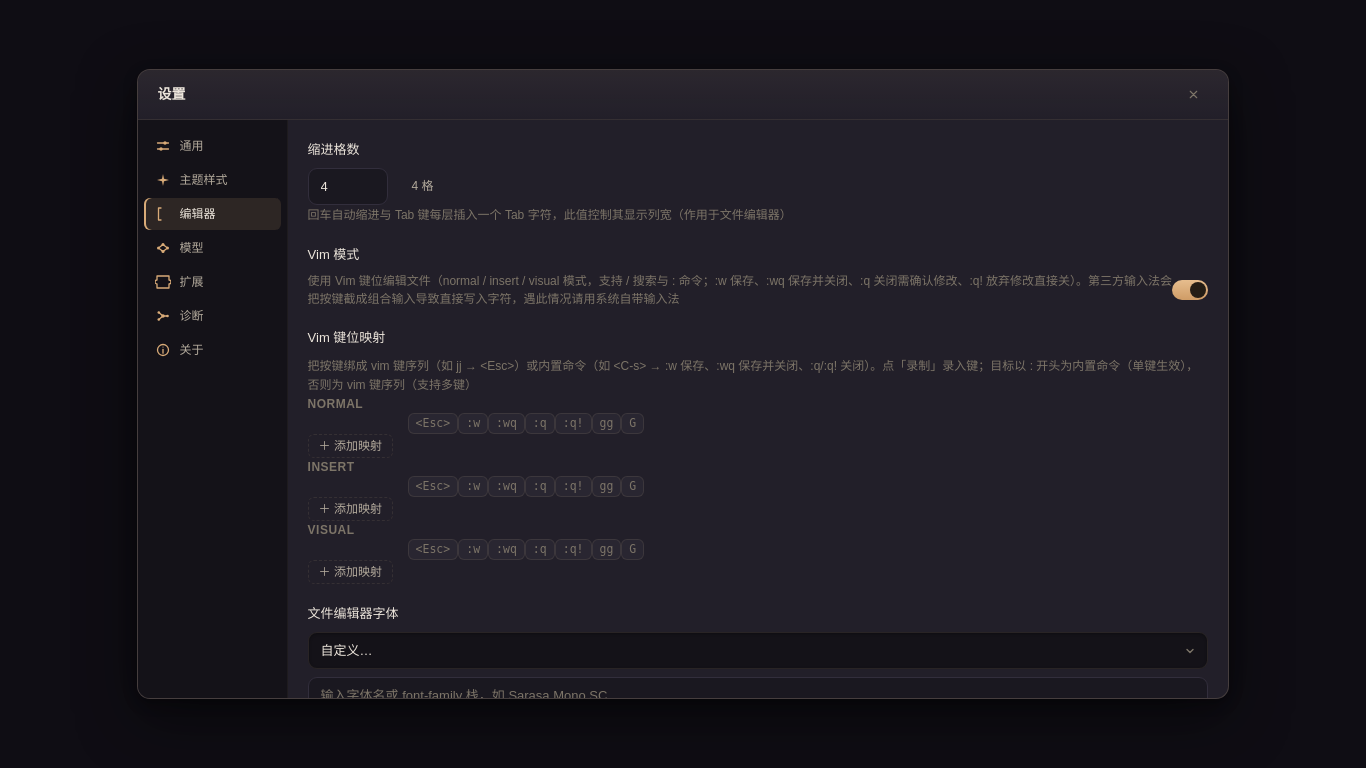
it: SettingsPanel vim keymap suggestion chips › chip_with_no_rows_adds_row_and_fills
Click the 1st button "<Esc>": (433, 423) [408,413,458,434]
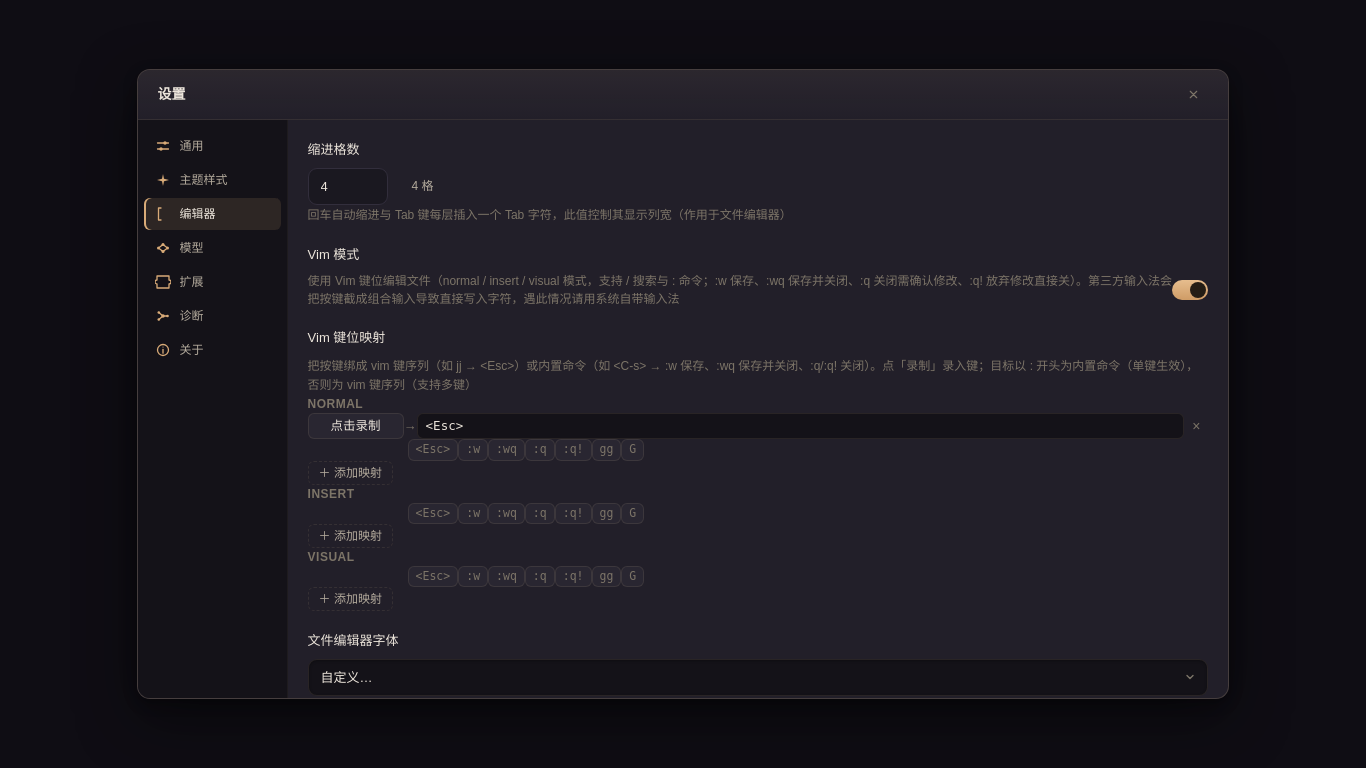
Now the field holds "<Esc>", box [417,413,1184,439]
